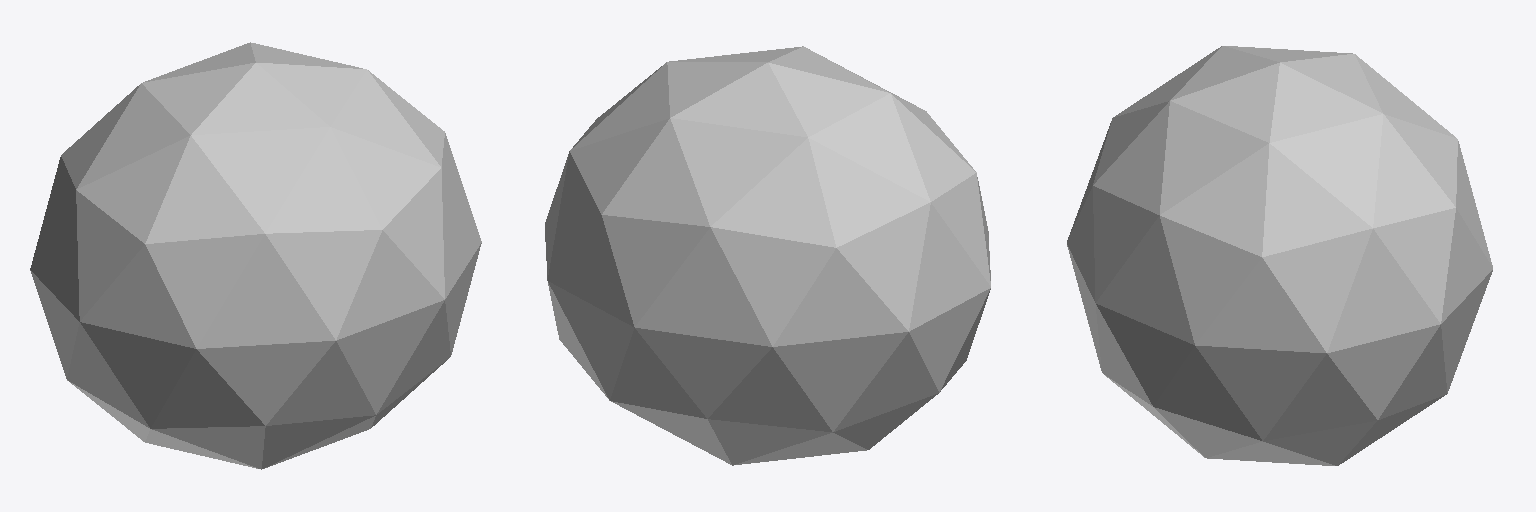
File: tree_krone.obj
3 renders of one model, left to right at view 1: azimuth 30°, elevation 25°; view 2: azimuth 150°, elevation 25°; view 3: azimuth 270°, elevation 25°, orthographic.
Visible parts, largest first — view 1: polySurface26; view 2: polySurface26; view 3: polySurface26.
Part boxes in pixels (bbox=[...]): polySurface26: bbox=[30, 42, 481, 469]; polySurface26: bbox=[545, 46, 990, 465]; polySurface26: bbox=[1067, 46, 1492, 465].
Size of the model in its own units: 11.04 by 10.21 by 10.21.